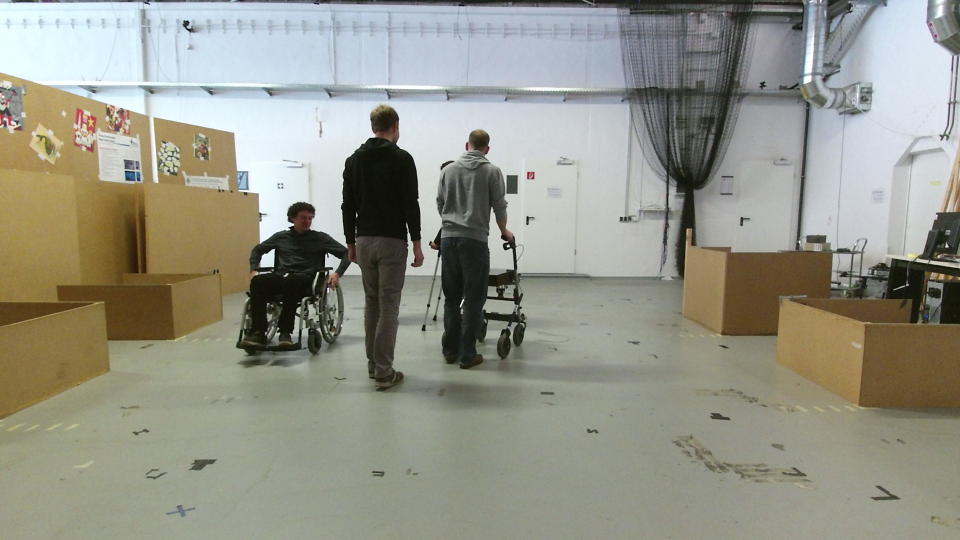wheelchair: (233, 199, 351, 358)
